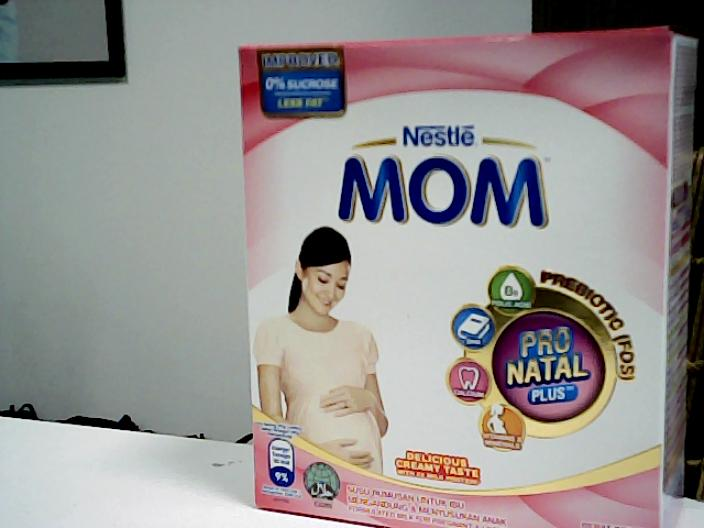MaternalMilkPowder_600-699g_Halal_NonHealthy: (242, 48, 657, 512)
